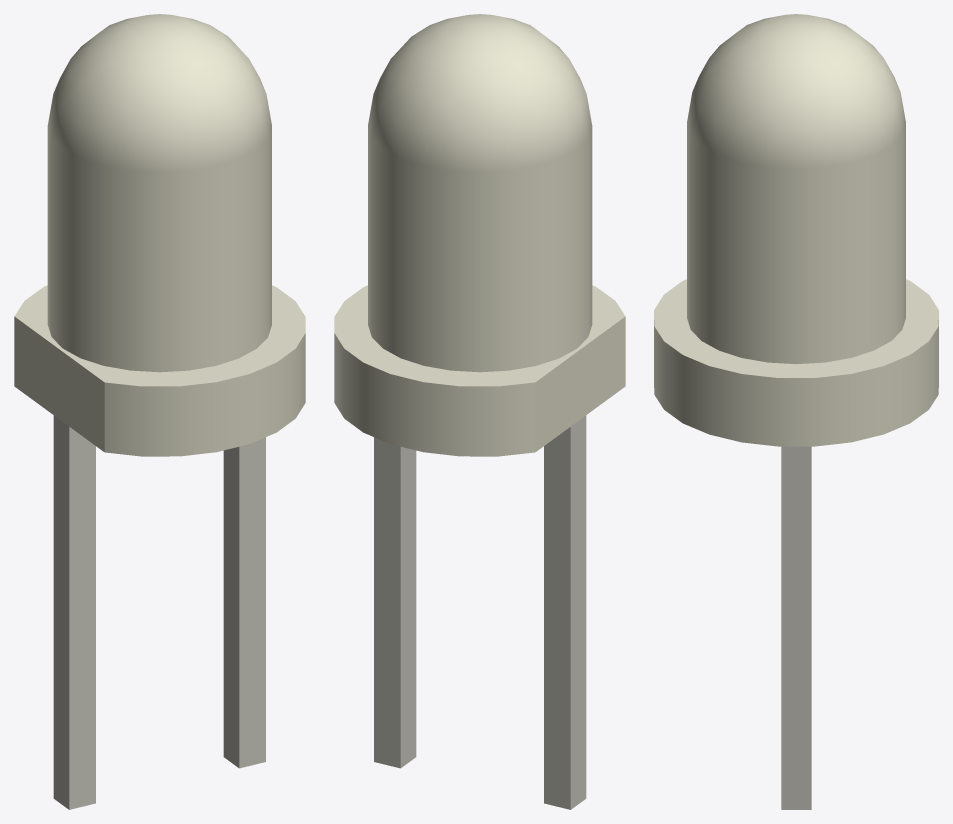
The model's file is LED_THT__LED_D3.0mm_Clear.glb.
The picture shows the model from 3 angles, left to right: view 1: azimuth 30°, elevation 25°; view 2: azimuth 150°, elevation 25°; view 3: azimuth 270°, elevation 25°; orthographic projection. The views are drawn at different scales.
Visible parts, largest first — view 1: LED_D3.0mm_Clear; view 2: LED_D3.0mm_Clear; view 3: LED_D3.0mm_Clear.
Part boxes in pixels (x1,y1,x2,y2): LED_D3.0mm_Clear: (14,14,305,809); LED_D3.0mm_Clear: (334,14,625,809); LED_D3.0mm_Clear: (654,14,938,809).
Size of the model in its own units: 0.00338 by 0.0108 by 0.00377.
